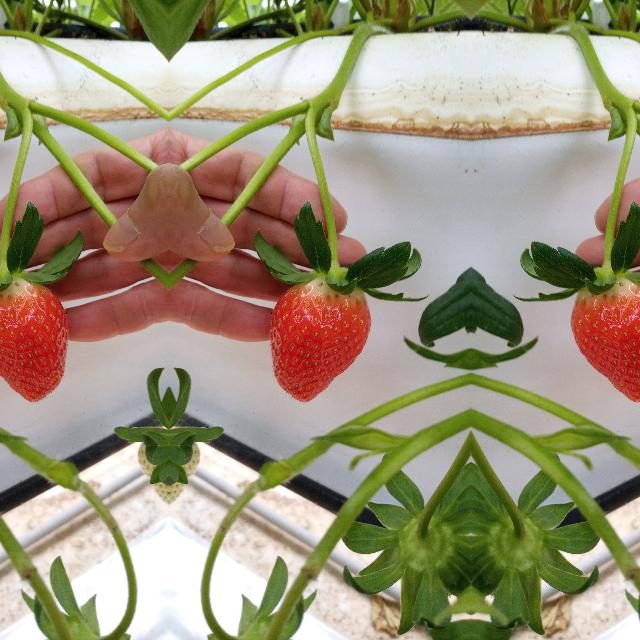Health_100: (268, 274, 370, 402), (570, 273, 640, 402), (0, 273, 68, 402)
